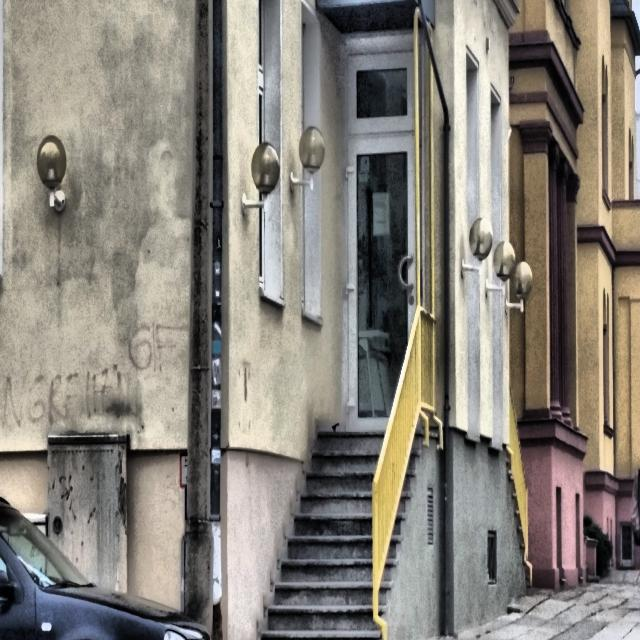escada: (250, 430, 416, 640)
